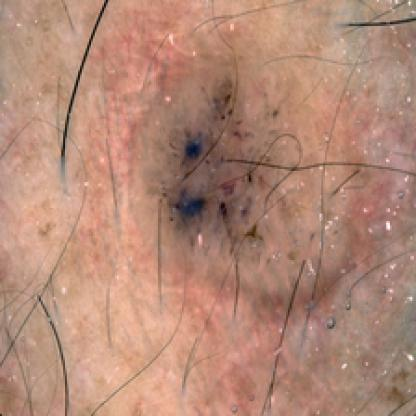malignant: (146, 78, 278, 232)
